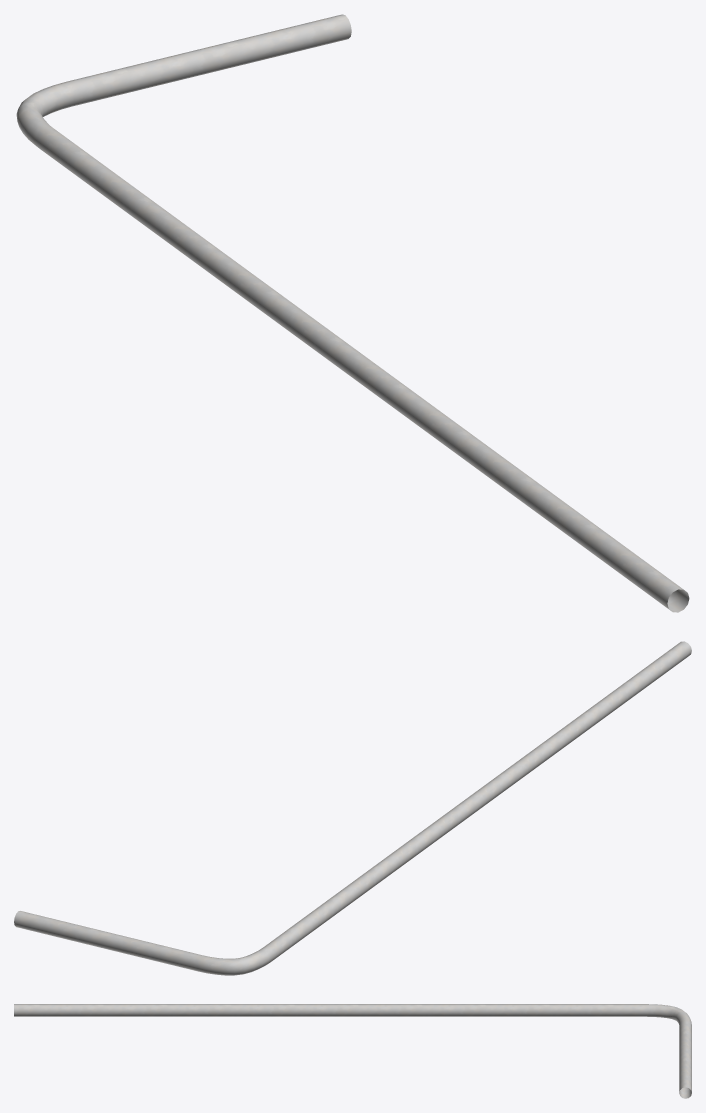
The model's file is Pipe__20.fbx.
The picture shows the model from 3 angles, top to bottom: view 1: azimuth 30°, elevation 25°; view 2: azimuth 150°, elevation 25°; view 3: azimuth 270°, elevation 25°; orthographic projection. The views are drawn at different scales.
Parts seen in each view (by area): view 1: Pipe_Dark; view 2: Pipe_Dark; view 3: Pipe_Dark.
Boxes of the visible parts, left/top/right/bottom form: Pipe_Dark: left=16, top=14, right=689, bottom=612; Pipe_Dark: left=14, top=641, right=691, bottom=975; Pipe_Dark: left=14, top=1004, right=691, bottom=1098.
Size of the model in its own units: 3.17 by 0.2 by 10.64.
1 material, 1 textured.
